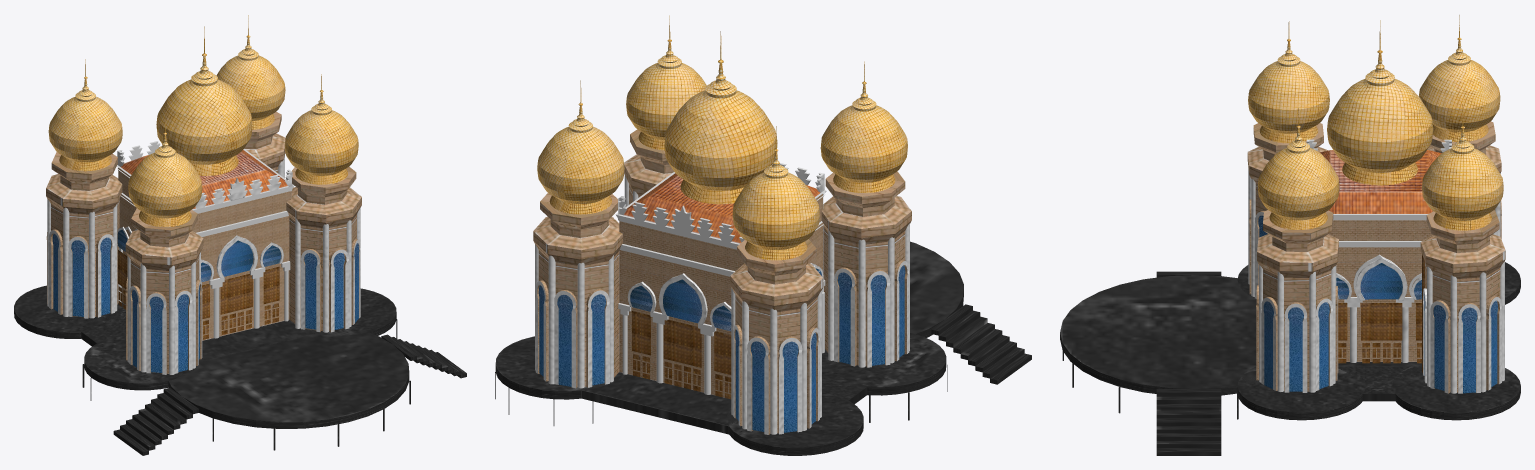
Rendered from MODELAGEM RA V4.glb.
3 renders of one model, left to right at view 1: azimuth 30°, elevation 25°; view 2: azimuth 150°, elevation 25°; view 3: azimuth 270°, elevation 25°, orthographic. The views are drawn at different scales.
Parts seen in each view (by area): view 1: plataforma maior, Plane, DOMO CENTRAL, Plane.027, PAREDE DOMO LATERAL.002, PAREDE DOMO LATERAL.001, PAREDE DOMO LATERAL, DOMO CENTRAL.003, DOMO CENTRAL.002, DOMO CENTRAL.001, DOMO CENTRAL.004, DERAGRAU.001 (+31 smaller); view 2: Plane, DOMO CENTRAL, Plane.027, PAREDE DOMO LATERAL, PAREDE DOMO LATERAL.003, PAREDE DOMO LATERAL.001, DOMO CENTRAL.004, DOMO CENTRAL.002, DOMO CENTRAL.001, plataforma 2 esquerda.001, DOMO CENTRAL.003, pilar parede central 2.031 (+31 smaller); view 3: plataforma maior, Plane, DOMO CENTRAL, PAREDE DOMO LATERAL.002, Plane.027, PAREDE DOMO LATERAL.003, DOMO CENTRAL.004, DOMO CENTRAL.003, DOMO CENTRAL.001, DOMO CENTRAL.002, DERAGRAU, plataforma 1 direita (+22 smaller).
Boxes of the visible parts, x1,y1,x2,y2 form: plataforma maior: [168, 332, 409, 428]; Plane: [118, 150, 291, 340]; DOMO CENTRAL: [156, 26, 252, 175]; Plane.027: [52, 233, 359, 372]; PAREDE DOMO LATERAL.002: [286, 166, 361, 331]; PAREDE DOMO LATERAL.001: [46, 152, 122, 316]; PAREDE DOMO LATERAL: [125, 208, 203, 373]; DOMO CENTRAL.003: [284, 74, 358, 184]; DOMO CENTRAL.002: [48, 59, 122, 171]; DOMO CENTRAL.001: [128, 116, 202, 226]; DOMO CENTRAL.004: [216, 15, 285, 129]; DERAGRAU.001: [113, 388, 198, 455]; Plane: [619, 173, 823, 397]; DOMO CENTRAL: [664, 31, 777, 204]; Plane.027: [538, 265, 905, 432]; PAREDE DOMO LATERAL: [821, 171, 911, 365]; PAREDE DOMO LATERAL.003: [533, 193, 622, 386]; PAREDE DOMO LATERAL.001: [730, 239, 823, 433]; DOMO CENTRAL.004: [537, 80, 624, 214]; DOMO CENTRAL.002: [732, 126, 819, 260]; DOMO CENTRAL.001: [820, 61, 907, 193]; plataforma 2 esquerda.001: [581, 374, 735, 434]; DOMO CENTRAL.003: [626, 15, 706, 150]; pilar parede central 2.031: [632, 311, 731, 399]; plataforma maior: [1060, 275, 1258, 395]; Plane: [1320, 150, 1441, 361]; DOMO CENTRAL: [1327, 20, 1433, 185]; PAREDE DOMO LATERAL.002: [1257, 210, 1338, 391]; Plane.027: [1258, 215, 1497, 393]; PAREDE DOMO LATERAL.003: [1420, 210, 1505, 392]; DOMO CENTRAL.004: [1422, 104, 1503, 230]; DOMO CENTRAL.003: [1257, 108, 1339, 229]; DOMO CENTRAL.001: [1248, 21, 1329, 143]; DOMO CENTRAL.002: [1419, 15, 1500, 141]; DERAGRAU: [1156, 389, 1221, 455]; plataforma 1 direita: [1237, 363, 1365, 420].
Size of the model in its own units: 16.44 by 15.35 by 18.33.
3 materials, 3 textured.
